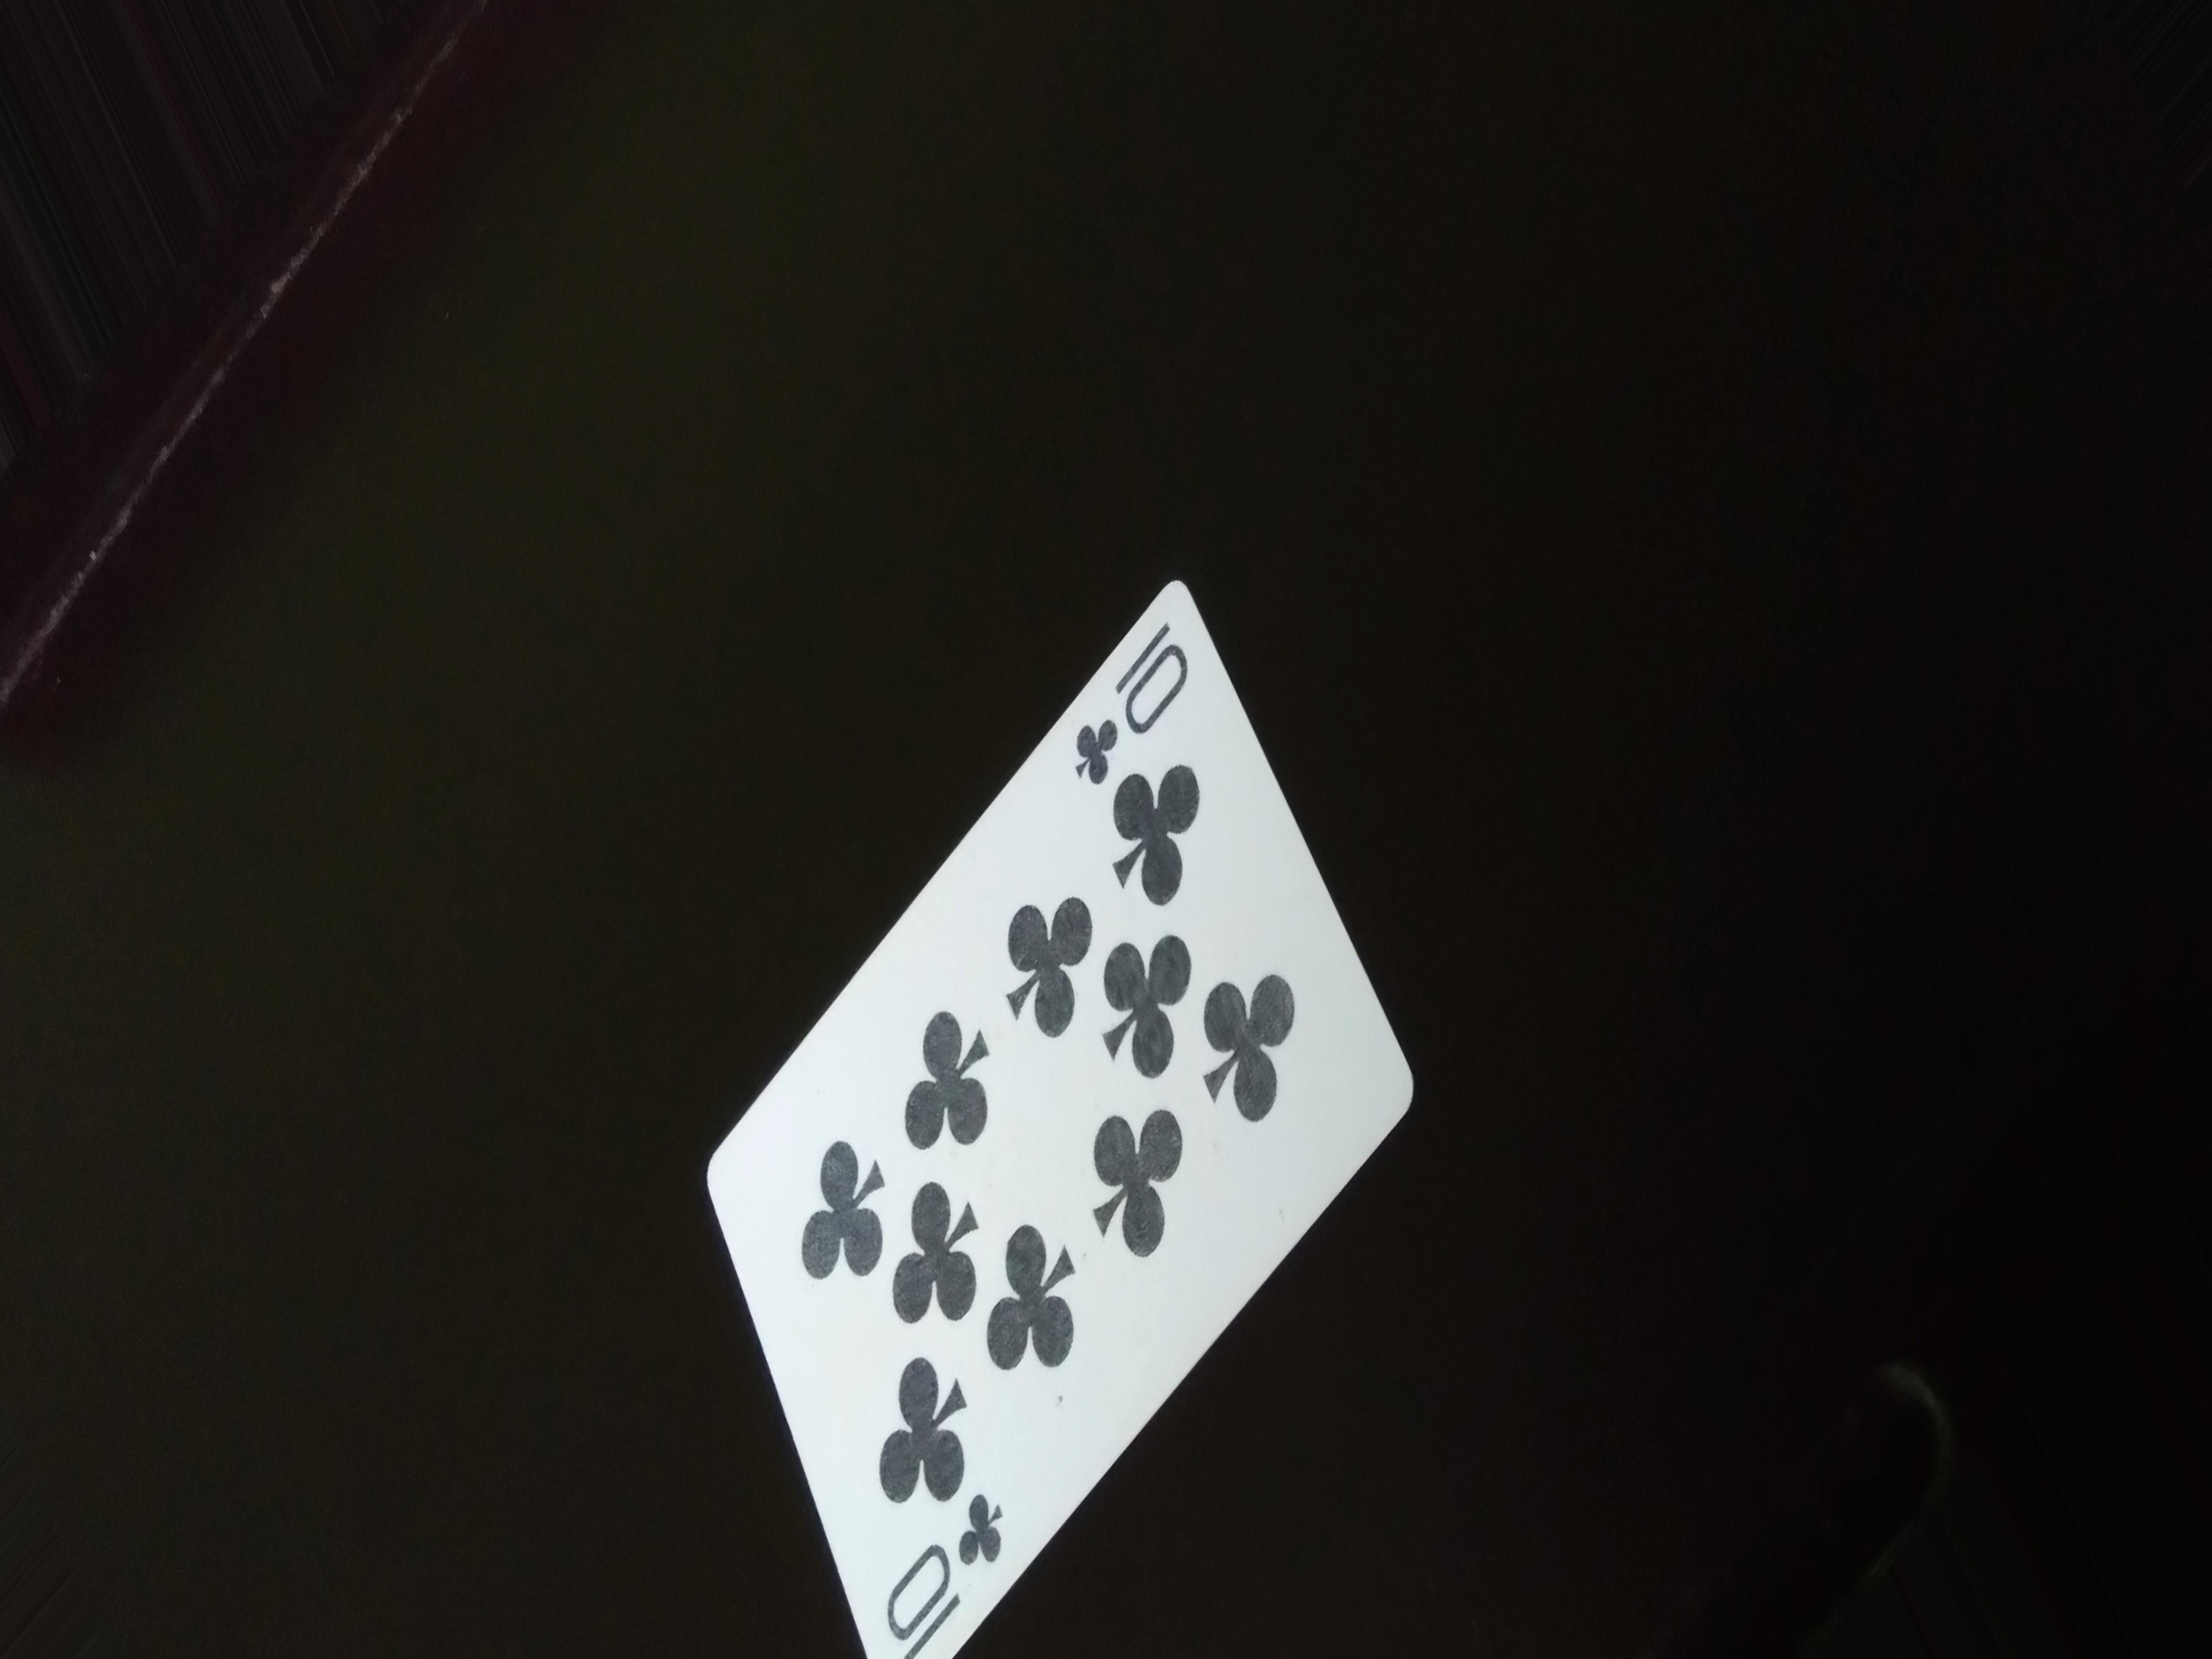10C: (1069, 612, 1188, 793)
